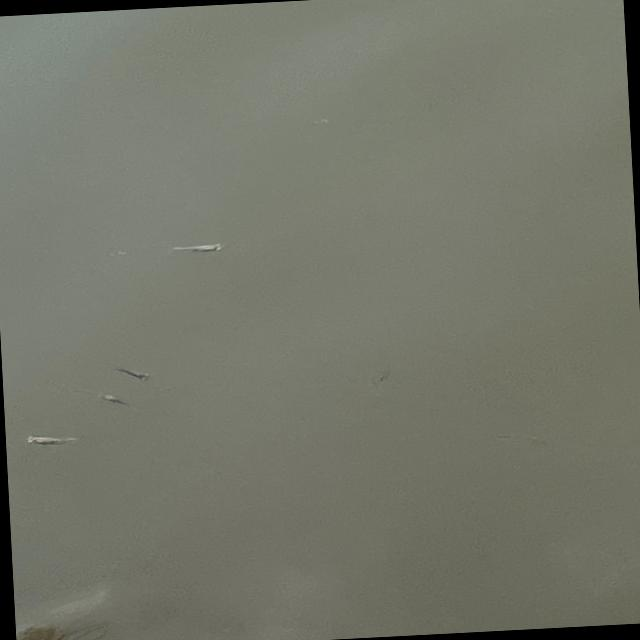Sivrisinek Baligi: (22, 426, 86, 449), (166, 236, 228, 258), (110, 362, 150, 382), (97, 390, 134, 410)
